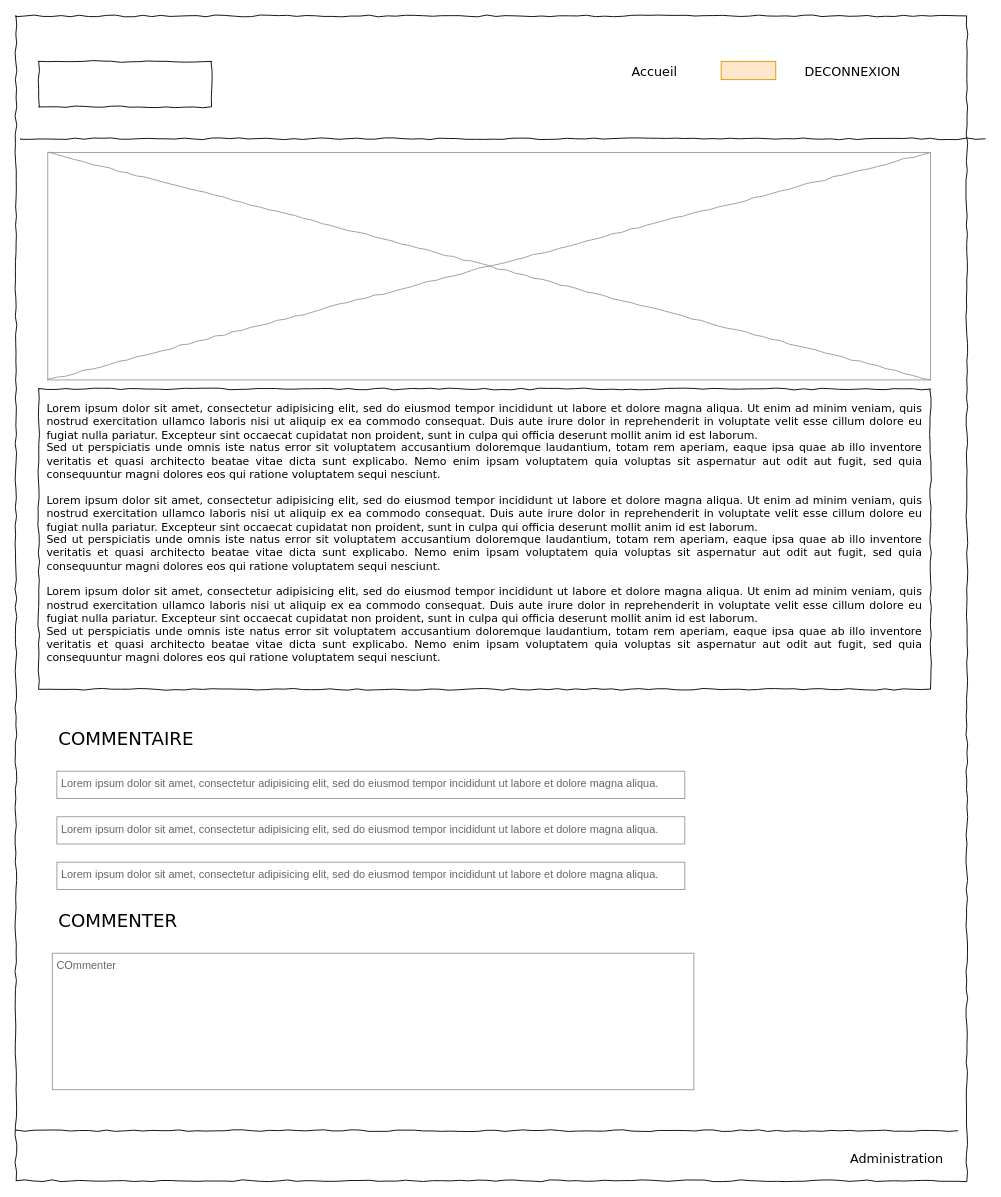
Some shapes in this 1001 by 1197 pixel diagram are drawn without their labels. Here are the shapes that lost their labels. From the top down, the centre of each, then its label:
At point 125,84: "LOGO".
At point 748,70: "Blog".
